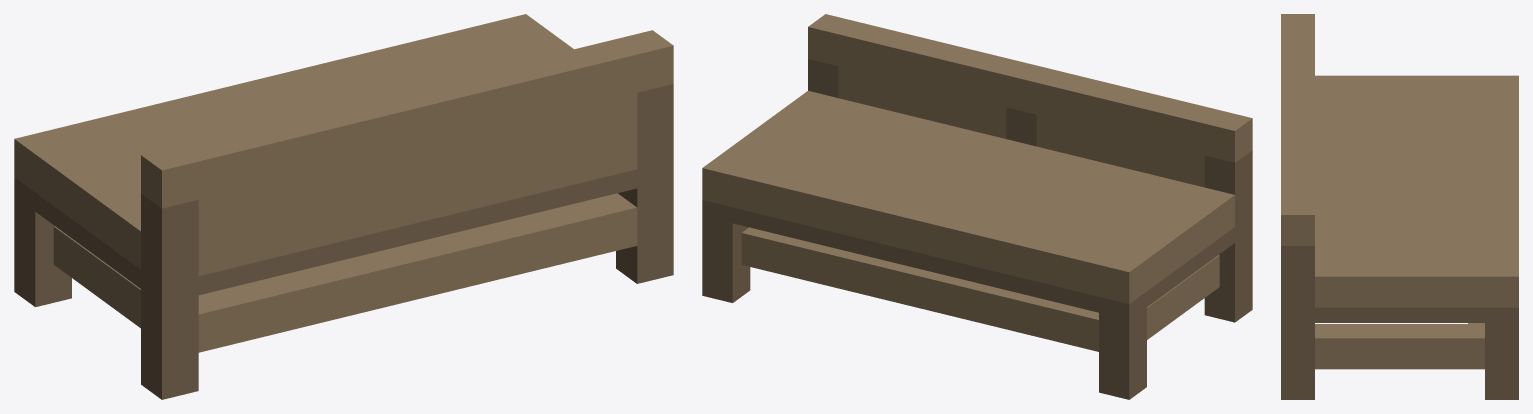
File: banco_espectadores_casino_01.glb
3 views of the same model, side by side, from view 1: azimuth 30°, elevation 25°; view 2: azimuth 150°, elevation 25°; view 3: azimuth 270°, elevation 25° (orthographic). The views are drawn at different scales.
Parts seen in each view (by area): view 1: banco_espectadores_casino; view 2: banco_espectadores_casino; view 3: banco_espectadores_casino.
Part boxes in pixels (bbox=[...]): banco_espectadores_casino: bbox=[14, 14, 673, 399]; banco_espectadores_casino: bbox=[702, 14, 1252, 399]; banco_espectadores_casino: bbox=[1281, 14, 1518, 399].
Bounding box in the file's own units: 2 × 0.8571 × 1.
